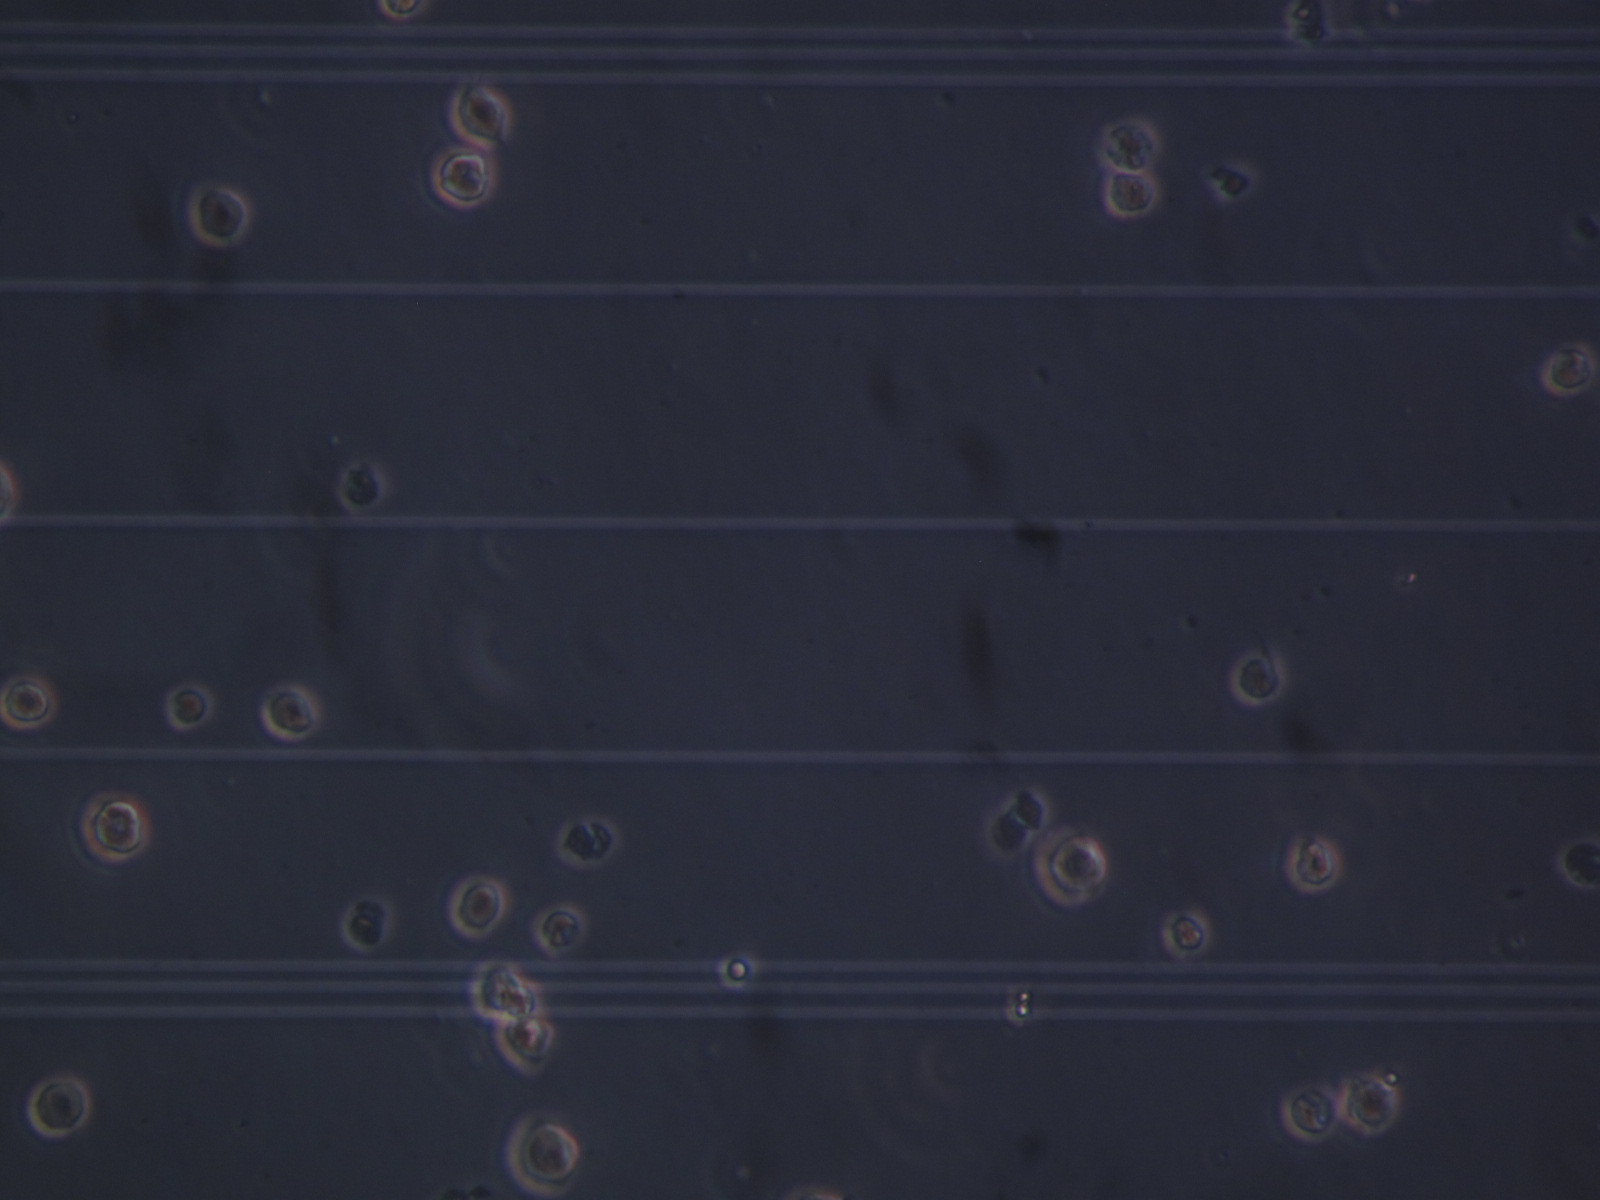hemo: (506, 1116, 583, 1199), (1033, 828, 1107, 906), (83, 793, 149, 863), (450, 79, 511, 150), (430, 150, 500, 207), (1277, 834, 1343, 895), (186, 184, 249, 246), (28, 1075, 89, 1138), (451, 875, 506, 942), (1099, 117, 1160, 175), (496, 1016, 554, 1076), (553, 817, 620, 868), (1342, 1073, 1396, 1134), (1541, 343, 1599, 400), (1281, 1083, 1335, 1139), (1, 674, 57, 729), (263, 684, 317, 740), (530, 906, 590, 955), (470, 962, 520, 1018), (1230, 655, 1285, 706), (1104, 170, 1158, 218), (1160, 909, 1208, 961), (338, 463, 386, 514), (164, 684, 213, 731), (1558, 837, 1600, 891), (344, 910, 392, 950), (501, 984, 535, 1020), (379, 1, 425, 20)
